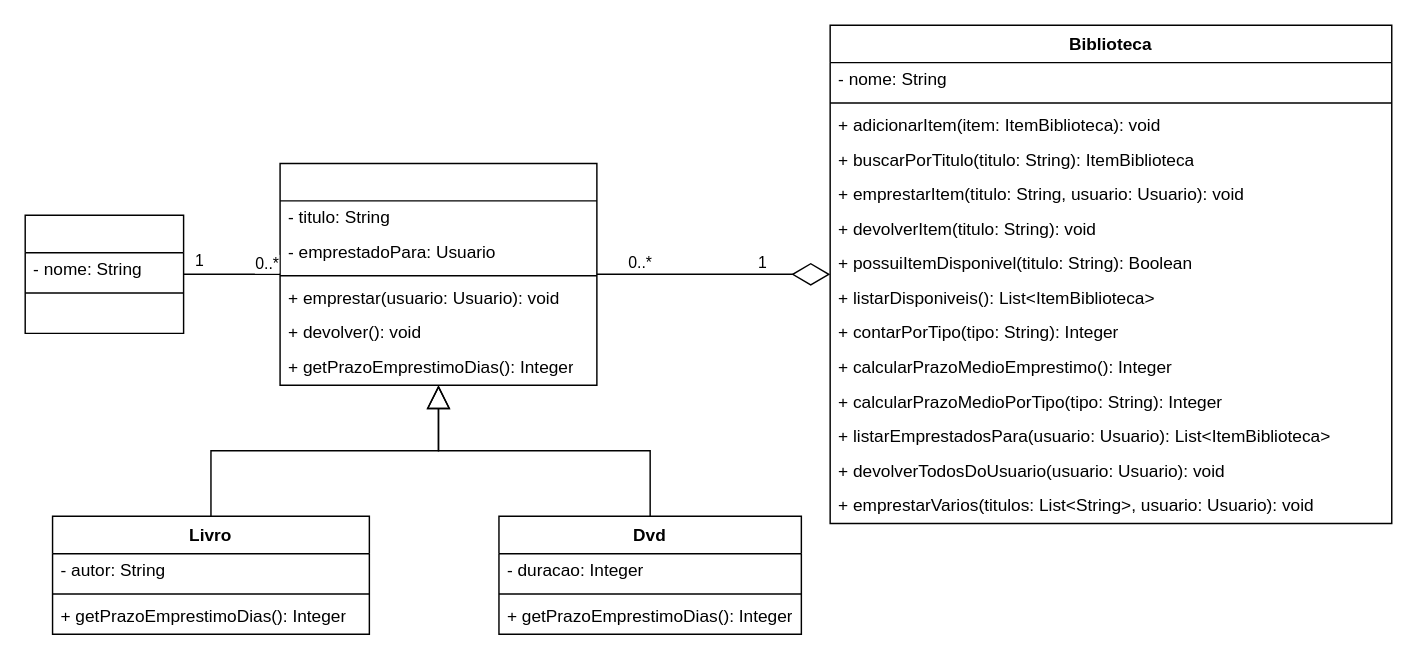
The diagram is 1417 pixels wide and 660 high, and some of its shapes have lost their labels. The shapes that lost their labels are listed below. From the top down, each one's box as (x1, y1, x2, y2) in pixels, then its label:
(24, 214, 184, 333): Usuario
(279, 162, 597, 385): ItemBiblioteca
